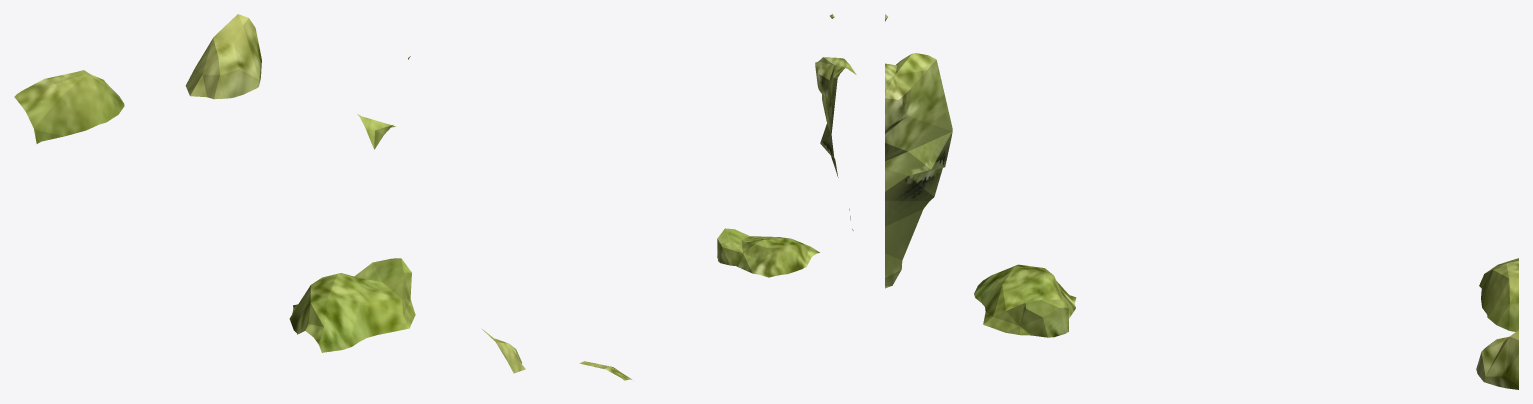
3 views of the same model, side by side, from view 1: azimuth 30°, elevation 25°; view 2: azimuth 150°, elevation 25°; view 3: azimuth 270°, elevation 25° (orthographic). The views are drawn at different scales.
Bounding box in the file's own units: 1.15 × 1.48 × 2.95.
1 material, 1 textured.
